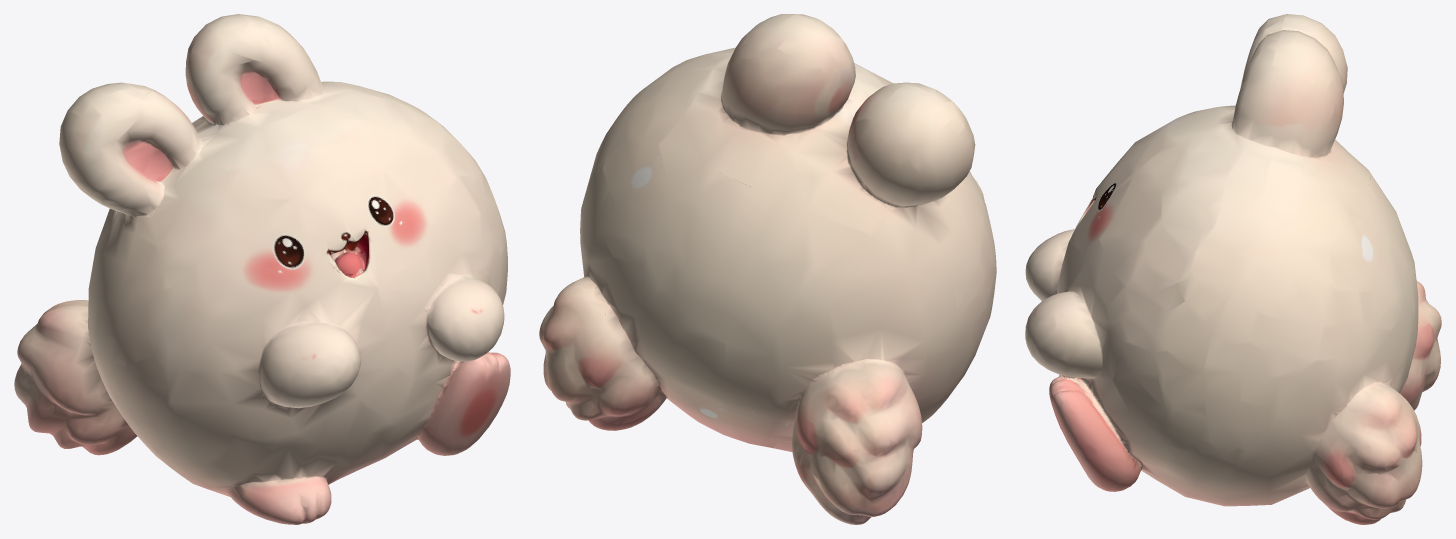
The model's file is blushy_bun_bunny.glb.
3 renders of one model, left to right at view 1: azimuth 30°, elevation 25°; view 2: azimuth 150°, elevation 25°; view 3: azimuth 270°, elevation 25°, orthographic.
Parts seen in each view (by area): view 1: Mesh_0; view 2: Mesh_0; view 3: Mesh_0.
Boxes of the visible parts, x1,y1,x2,y2 form: Mesh_0: (14,14,510,524); Mesh_0: (539,14,996,524); Mesh_0: (1025,14,1441,524).
Size of the model in its own units: 1.81 by 2 by 1.69.
1 material, 1 textured.
